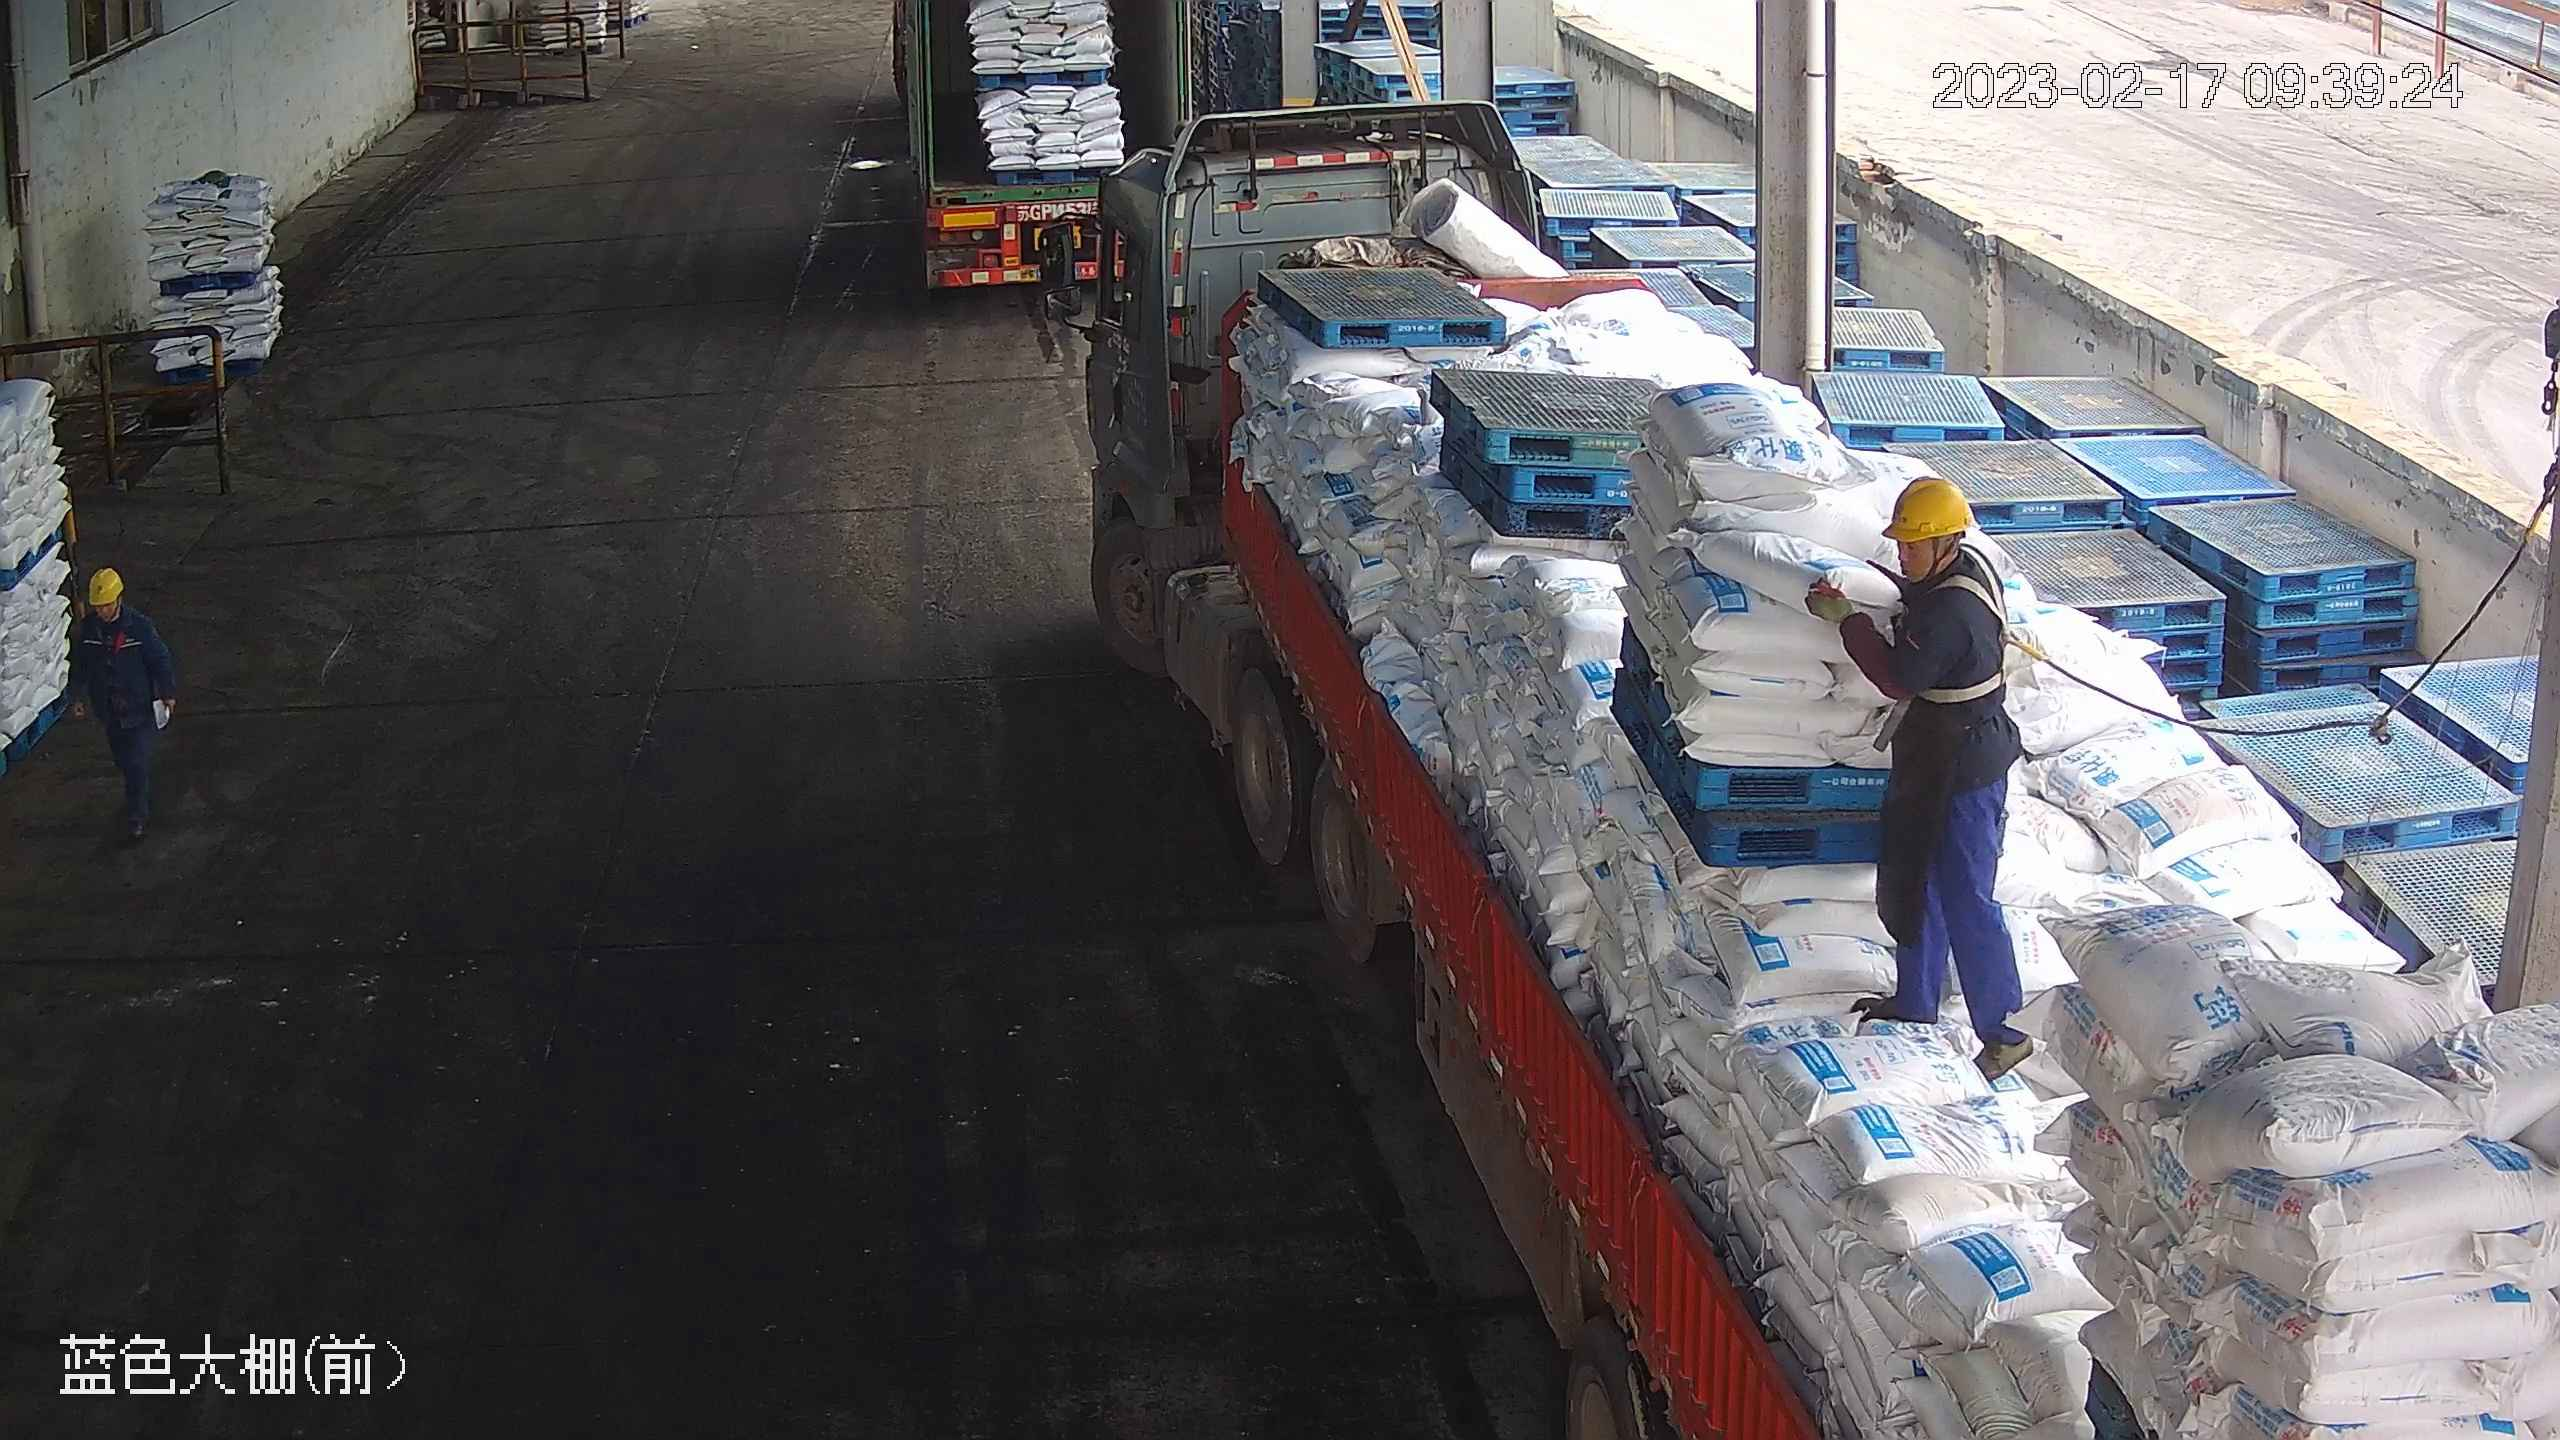belt: (1918, 551, 2030, 707)
head: (1821, 476, 2016, 642), (68, 570, 162, 656)
helmet: (1881, 472, 1978, 543), (83, 565, 125, 602)
people: (1808, 476, 2035, 1071), (64, 566, 179, 844)
truck: (1035, 97, 2560, 1440), (883, 1, 1181, 294)
